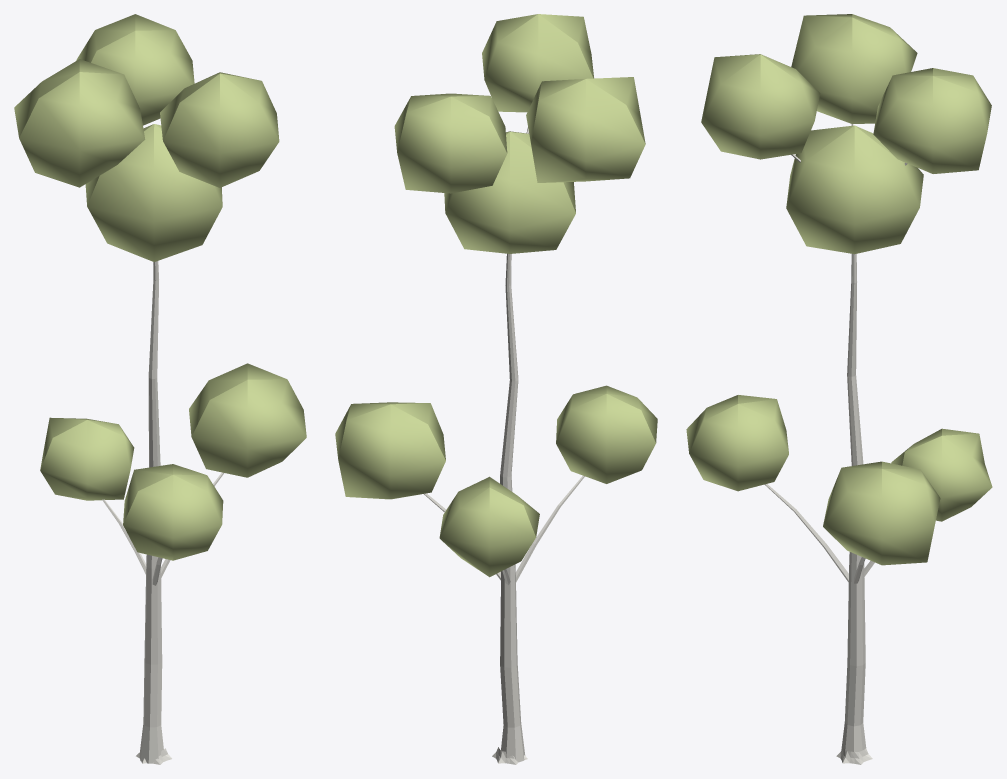
Rendered from dense-temperate-forest-flora-beech-young-fcdb5d83__28314.glb.
3 renders of one model, left to right at view 1: azimuth 30°, elevation 25°; view 2: azimuth 150°, elevation 25°; view 3: azimuth 270°, elevation 25°, orthographic.
Parts seen in each view (by area): view 1: beech-young; view 2: beech-young; view 3: beech-young.
Boxes of the visible parts, <box> form: beech-young: <box>14,14,306,764</box>; beech-young: <box>335,14,657,764</box>; beech-young: <box>686,14,992,764</box>.
Size of the model in its own units: 2.57 by 5.85 by 2.28.
